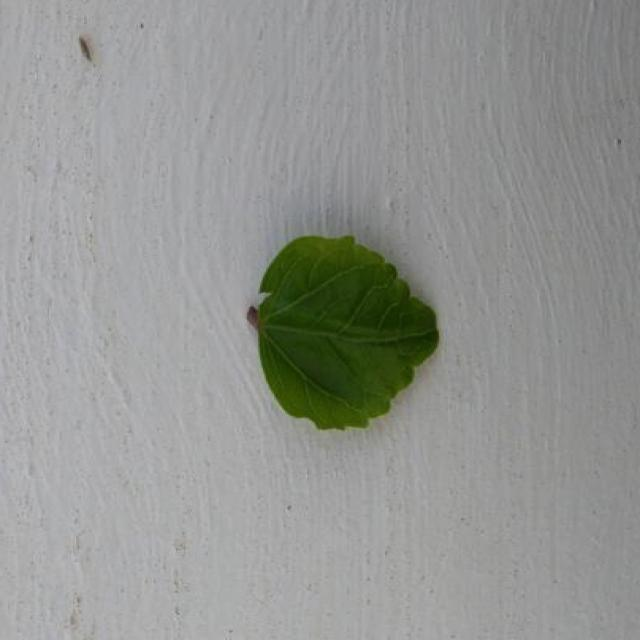leaf: (246, 233, 439, 431)
